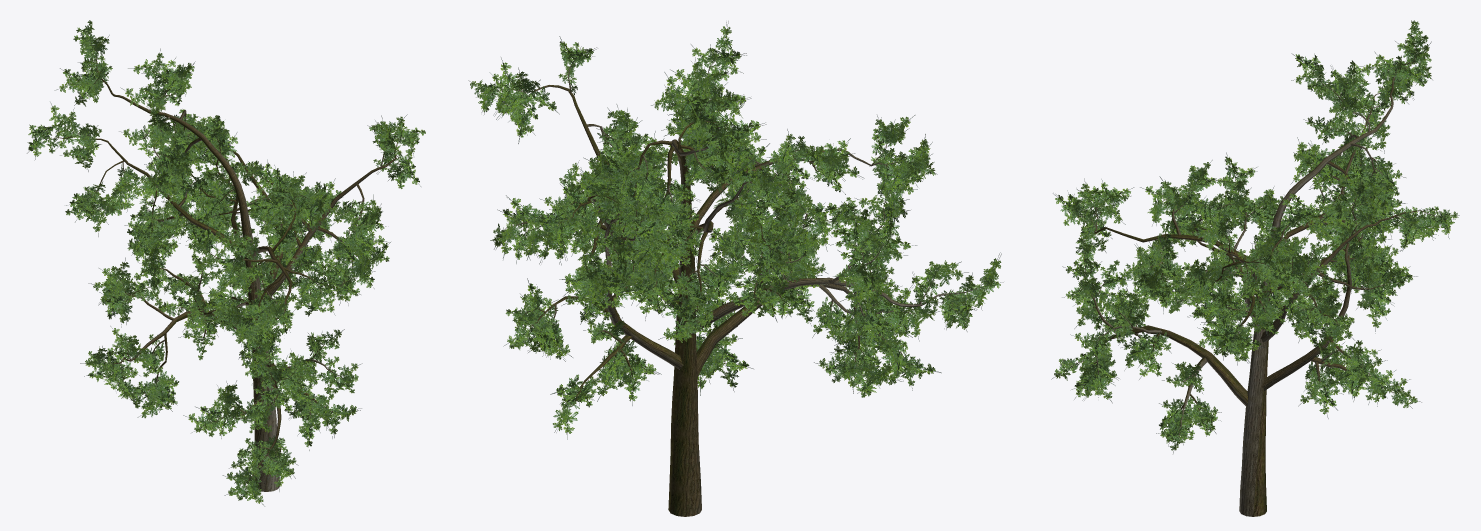
Rendered from ash.glb.
3 renders of one model, left to right at view 1: azimuth 30°, elevation 25°; view 2: azimuth 150°, elevation 25°; view 3: azimuth 270°, elevation 25°, orthographic. The views are drawn at different scales.
Parts seen in each view (by area): view 1: ash; view 2: ash; view 3: ash.
Boxes of the visible parts, x1=… form: ash: x1=27, y1=20, x2=425, y2=506; ash: x1=468, y1=21, x2=1003, y2=516; ash: x1=1051, y1=20, x2=1459, y2=516.
Bounding box in the file's own units: 8.97 × 9.5 × 8.19.
Materials: 2 (2 with a texture image).
